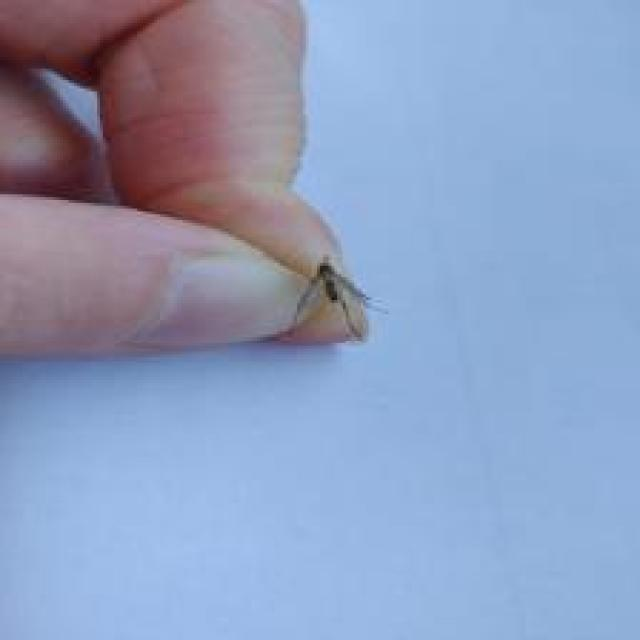Culex: (282, 254, 384, 343)
